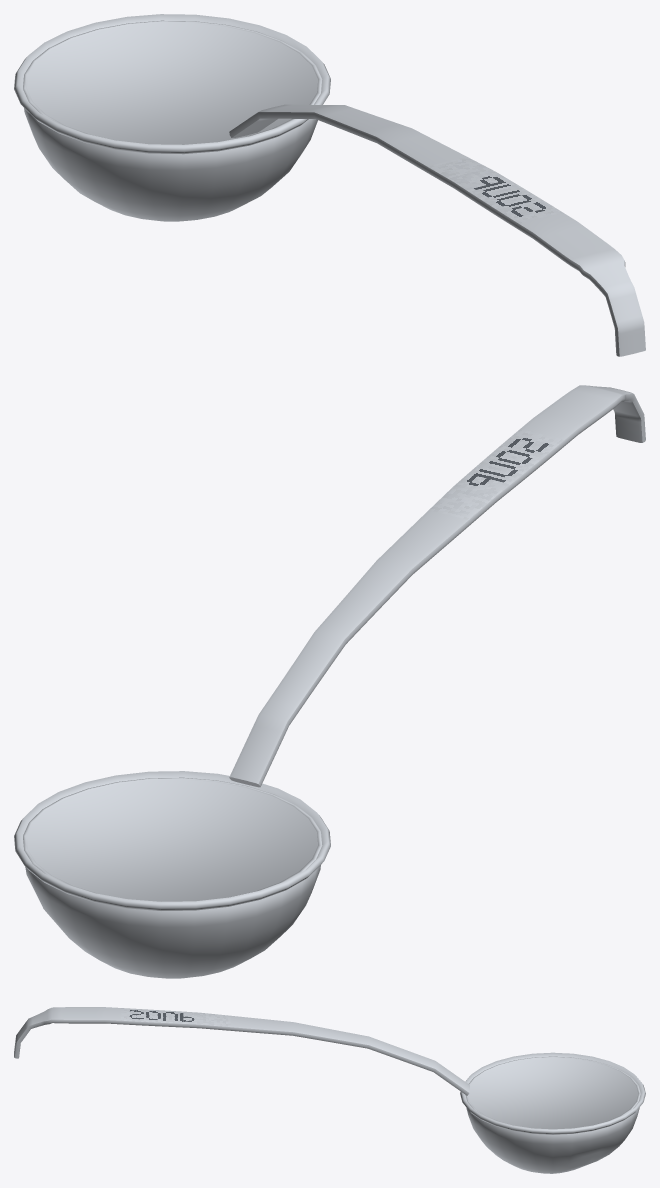
File: w_spoon_ladle.glb
3 renders of one model, top to bottom at view 1: azimuth 30°, elevation 25°; view 2: azimuth 150°, elevation 25°; view 3: azimuth 270°, elevation 25°, orthographic. The views are drawn at different scales.
Visible parts, largest first — view 1: ladle_bowl_wzB, ladle_handle_wzA; view 2: ladle_bowl_wzB, ladle_handle_wzA; view 3: ladle_bowl_wzB, ladle_handle_wzA.
Boxes of the visible parts, bbox=[...] form: ladle_bowl_wzB: bbox=[14, 14, 330, 221]; ladle_handle_wzA: bbox=[229, 104, 645, 356]; ladle_bowl_wzB: bbox=[14, 771, 330, 978]; ladle_handle_wzA: bbox=[229, 385, 645, 787]; ladle_bowl_wzB: bbox=[460, 1052, 645, 1173]; ladle_handle_wzA: bbox=[14, 1007, 469, 1095].
Size of the model in its own units: 0.0988 by 0.0894 by 0.3358.
2 materials, 1 textured.
